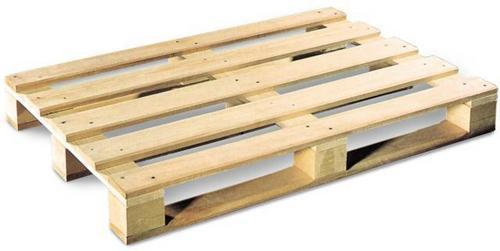wood: (10, 9, 495, 247)
